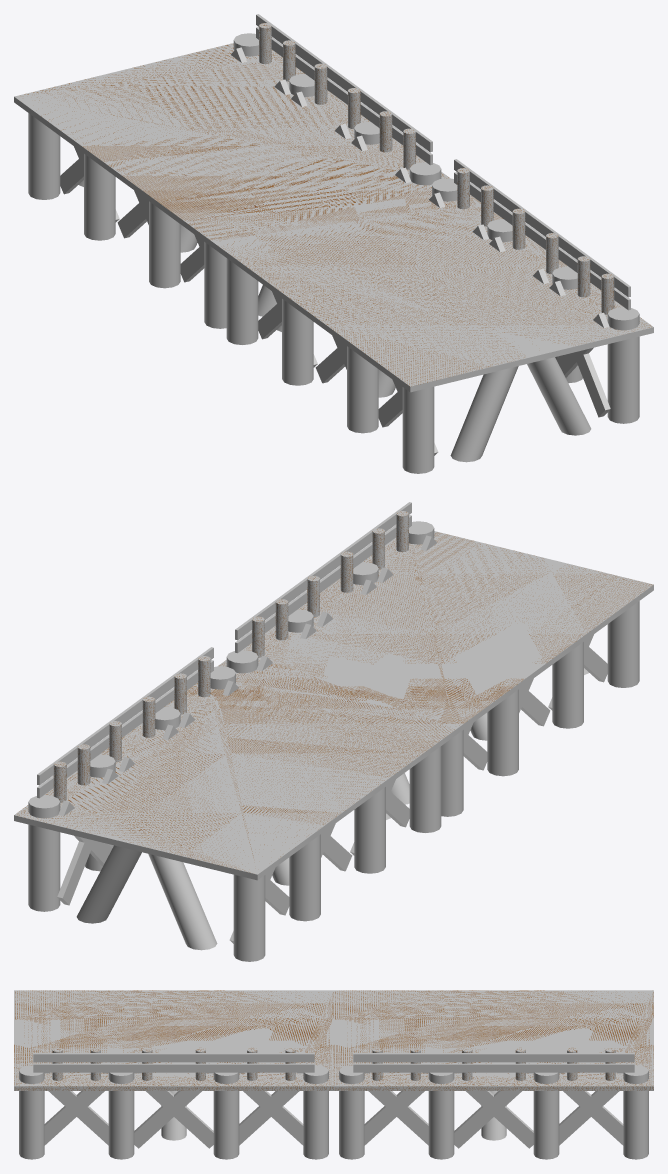
File: Wood platform 2.fbx
3 renders of one model, top to bottom at view 1: azimuth 30°, elevation 25°; view 2: azimuth 150°, elevation 25°; view 3: azimuth 270°, elevation 25°, orthographic. The views are drawn at different scales.
Visible parts, largest first — view 1: instance_9.006, instance_0.006, instance_9.004, instance_9.011, instance_9.015, instance_9.005, instance_9.002, instance_0.002, instance_9.012, instance_9.009, instance_9.010, instance_0.009 (+15 smaller); view 2: instance_0.006, instance_9.006, instance_0.003, instance_0, instance_0.015, instance_0.002, instance_0.005, instance_9.005, instance_0.010, instance_0.009, instance_0.001, instance_9.010 (+15 smaller); view 3: instance_9.006, instance_0.006, instance_7.001, instance_6.001, instance_7, instance_6, instance_8.001, instance_8, instance_9.004, instance_9.003, instance_0.004, instance_0.003 (+10 smaller).
Boxes of the visible parts, x1,y1,x2,y2 form: instance_9.006: (212, 188, 653, 386); instance_0.006: (14, 43, 450, 241); instance_9.004: (607, 307, 639, 423); instance_9.011: (450, 366, 518, 462); instance_9.015: (212, 242, 653, 392); instance_9.005: (402, 386, 434, 473); instance_9.002: (226, 258, 258, 344); instance_0.002: (28, 113, 60, 199); instance_9.012: (527, 357, 591, 435); instance_9.009: (282, 299, 313, 385); instance_9.010: (347, 346, 378, 433); instance_0.009: (84, 154, 115, 240); instance_0.006: (14, 676, 455, 874); instance_9.006: (217, 531, 653, 729); instance_0.003: (28, 795, 60, 911); instance_0: (148, 853, 217, 950); instance_0.015: (14, 730, 455, 880); instance_0.002: (233, 874, 265, 961); instance_0.005: (409, 746, 441, 832); instance_9.005: (607, 601, 639, 687); instance_0.010: (354, 787, 385, 873); instance_0.009: (289, 834, 320, 921); instance_0.001: (76, 845, 141, 923); instance_9.010: (552, 642, 583, 728); instance_9.006: (14, 990, 333, 1090); instance_0.006: (334, 990, 653, 1090); instance_7.001: (33, 1063, 314, 1072); instance_6.001: (33, 1053, 314, 1062); instance_7: (353, 1063, 634, 1072); instance_6: (353, 1053, 634, 1062); instance_8.001: (134, 1063, 213, 1148); instance_8: (454, 1063, 533, 1148); instance_9.004: (19, 1065, 44, 1159); instance_9.003: (303, 1065, 328, 1159); instance_0.004: (339, 1065, 364, 1159); instance_0.003: (623, 1065, 648, 1159).
Size of the model in its own units: 710 by 360 by 2000.
